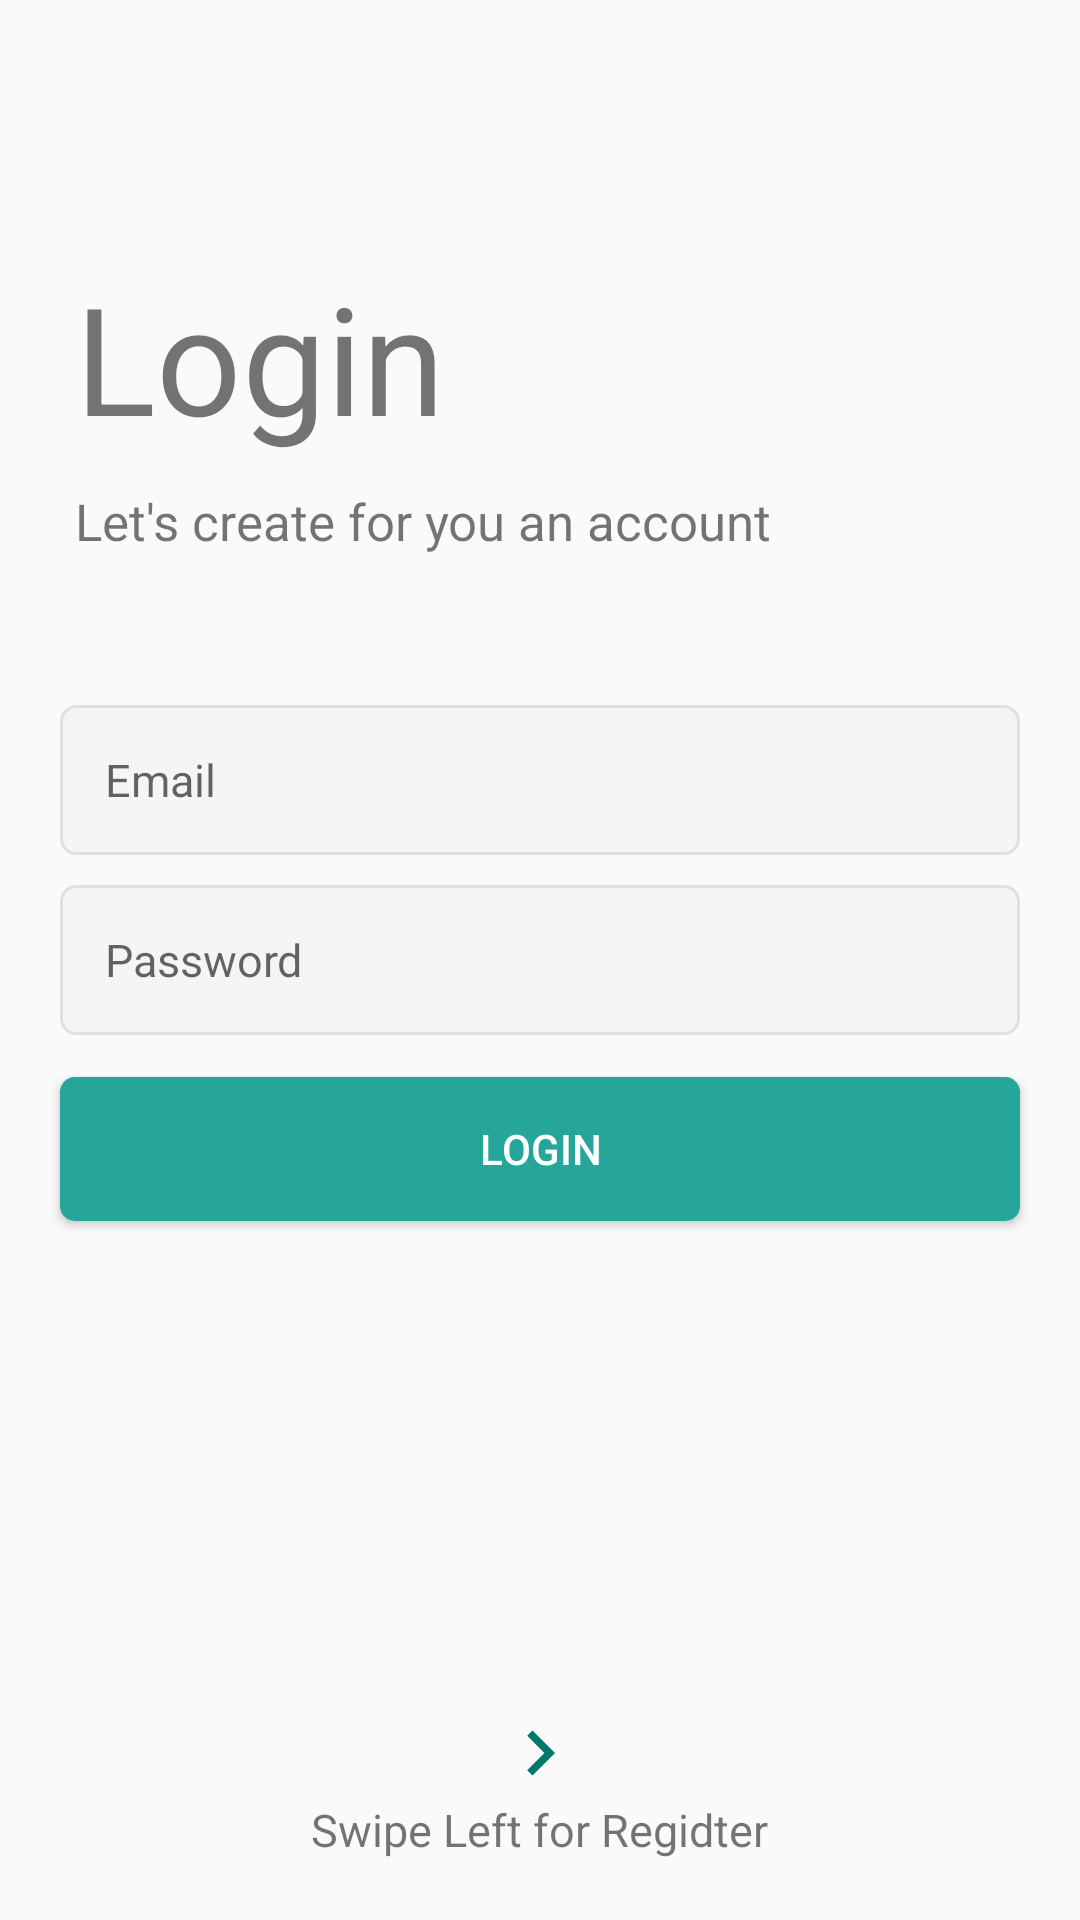

Icons on this 1080*1920 Android screen, each with its box as (left=x1, top=y1, right=x2, bottom=y2):
arrow right: (left=527, top=1730, right=555, bottom=1776)
